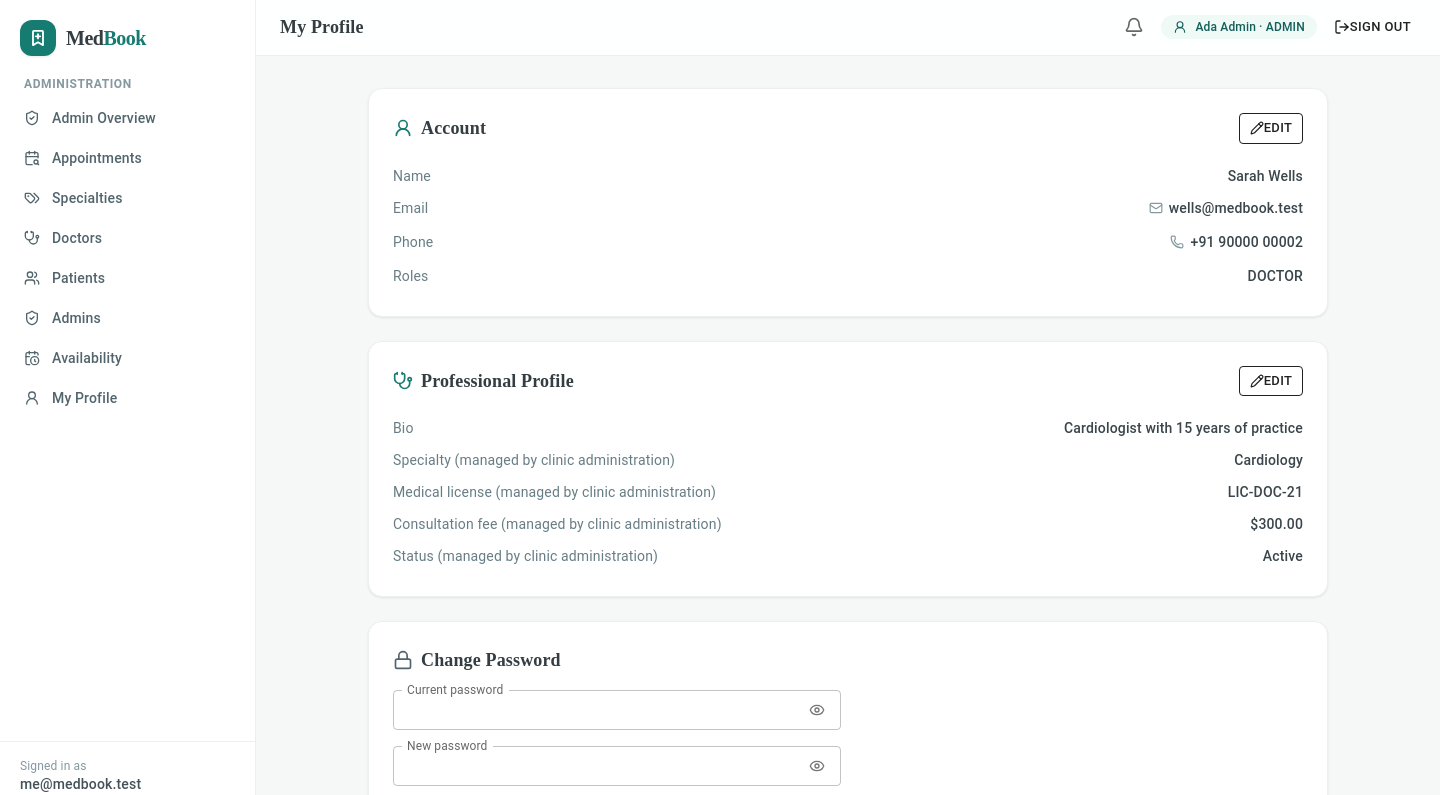
Test: ProfilePage — doctor profile editing › edits bio and picture only
The width and height of the screenshot is (1440, 795).
Click the button "Edit" in the row of "Professional Profile": (1271, 381) [1239,366,1303,396]
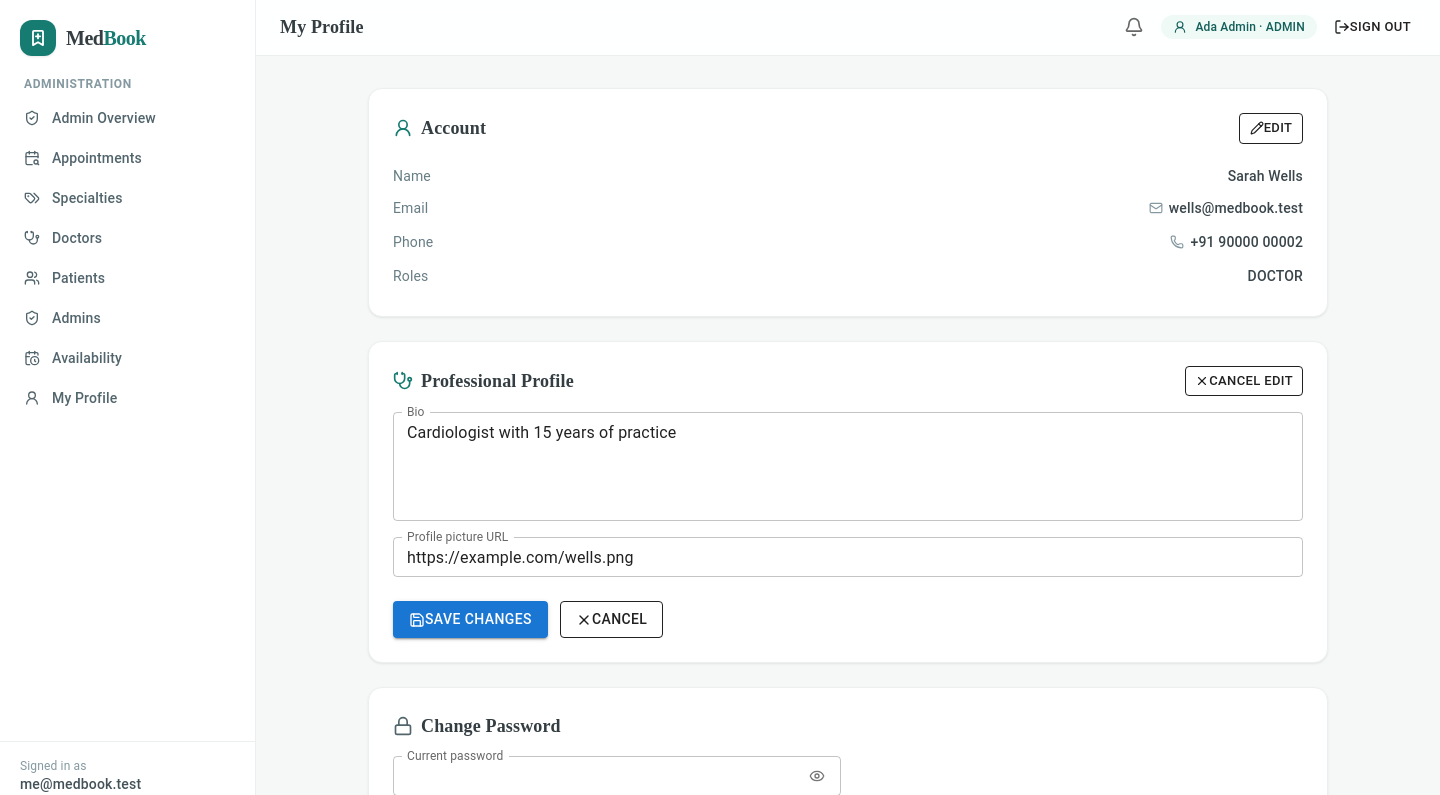
Expected: the text box labelled "Bio" is shown
Expected: the text labelled "Specialty" is gone
Expected: the text labelled "Consultation fee" is gone
Replace the text in the text box labelled "Bio" with "Updated bio": (848, 467) [407,421,1289,513]
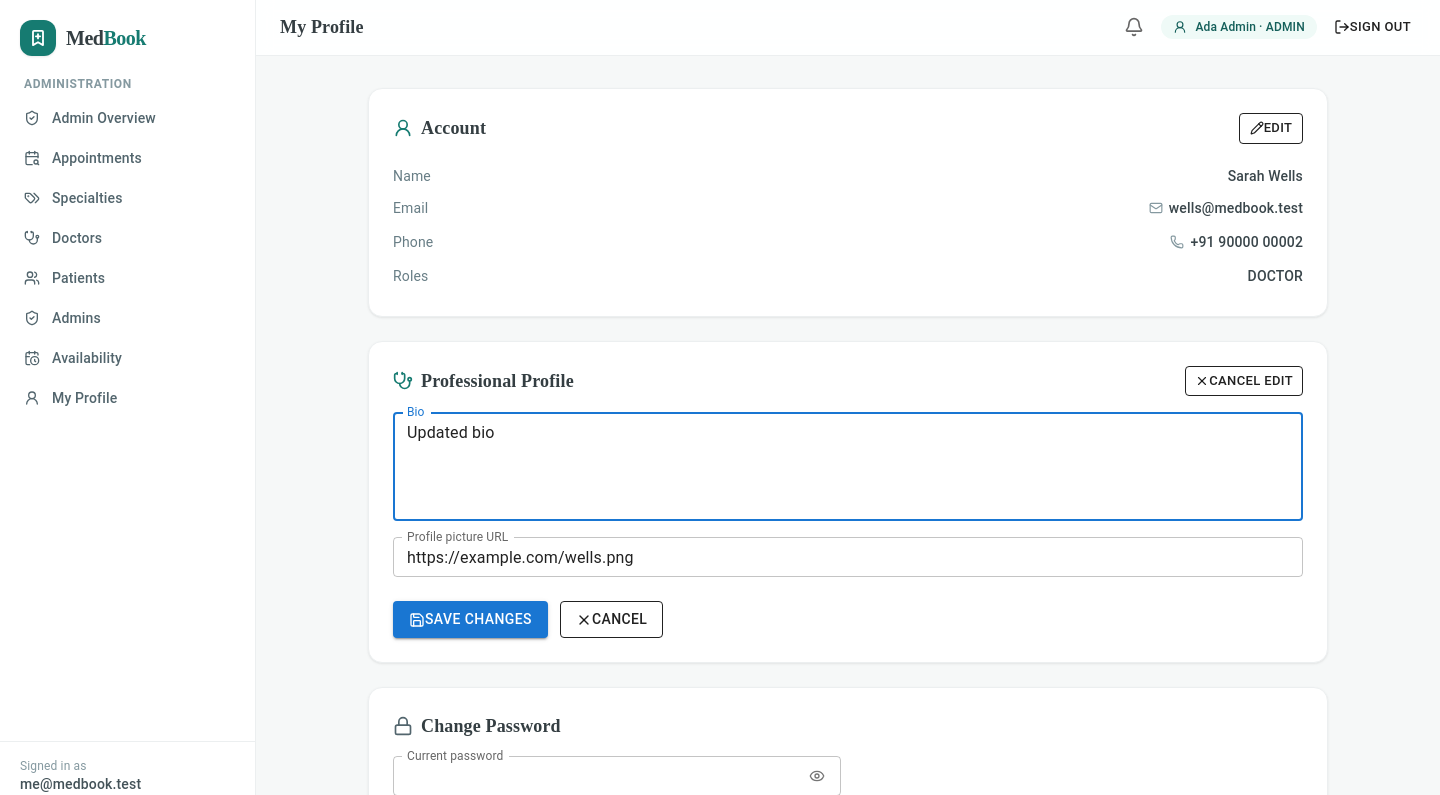
Click the button "Save Changes": (470, 620) [393,601,548,638]
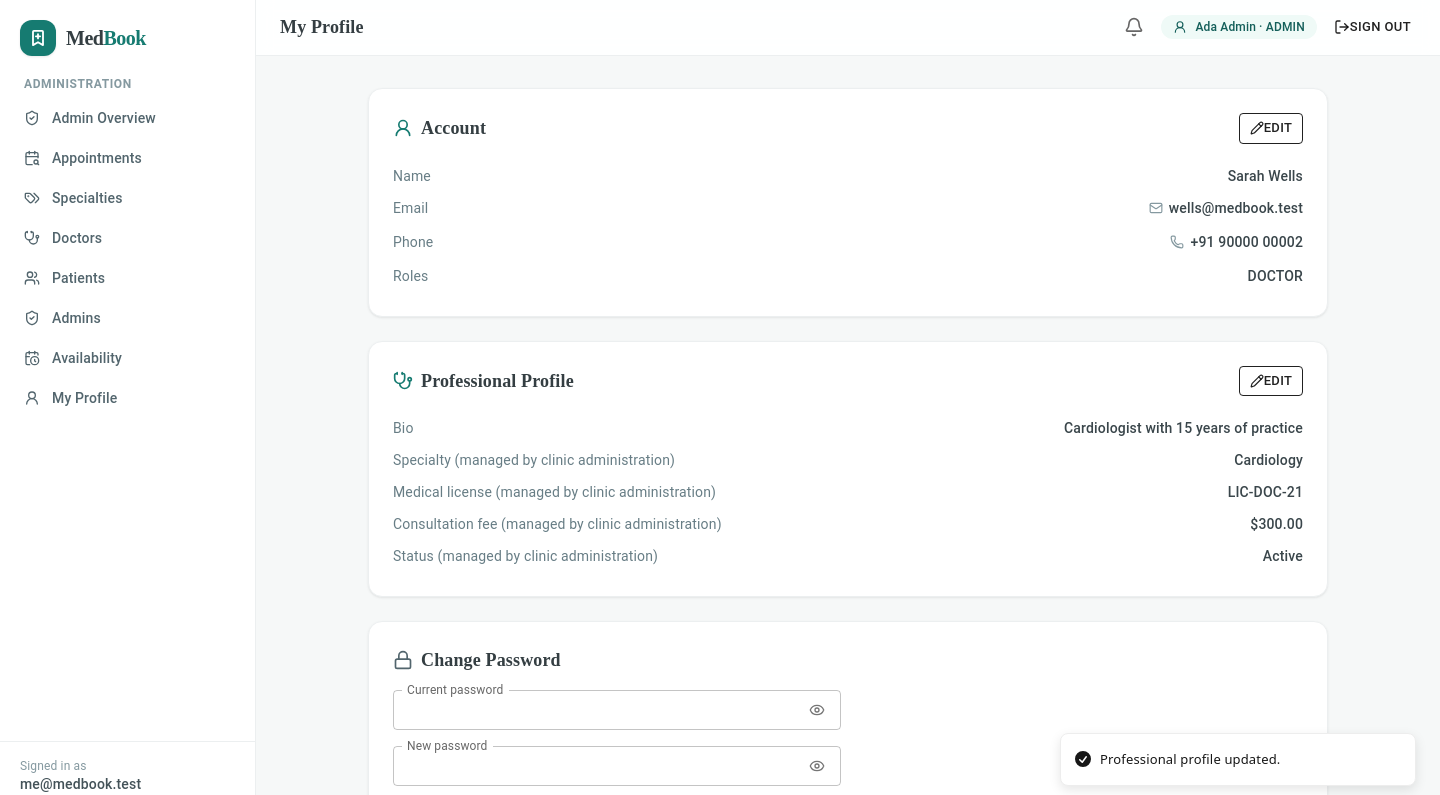
Expected: the text "Professional profile updated." is shown, [1100,750,1280,769]
